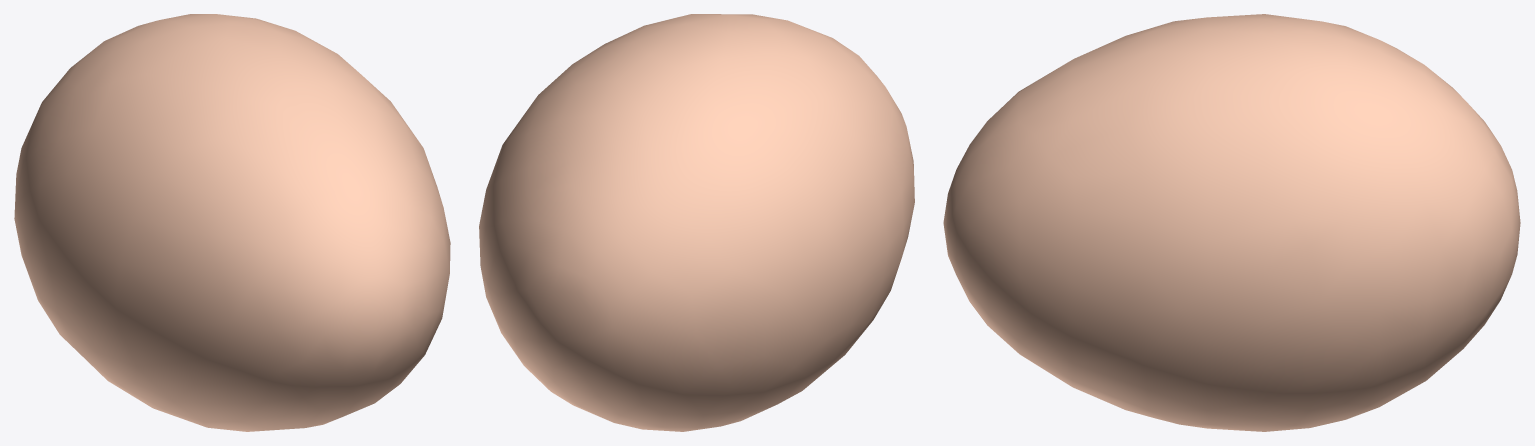
The model's file is MeshEgg_8_0.obj.
3 renders of one model, left to right at view 1: azimuth 30°, elevation 25°; view 2: azimuth 150°, elevation 25°; view 3: azimuth 270°, elevation 25°, orthographic. The views are drawn at different scales.
Visible parts, largest first — view 1: Egg_8; view 2: Egg_8; view 3: Egg_8.
Boxes of the visible parts, box(x1,y1,x2,y2) form: Egg_8: box(14, 14, 450, 431); Egg_8: box(479, 14, 914, 431); Egg_8: box(943, 14, 1520, 431).
Size of the model in its own units: 0.0483 by 0.0483 by 0.0668.
